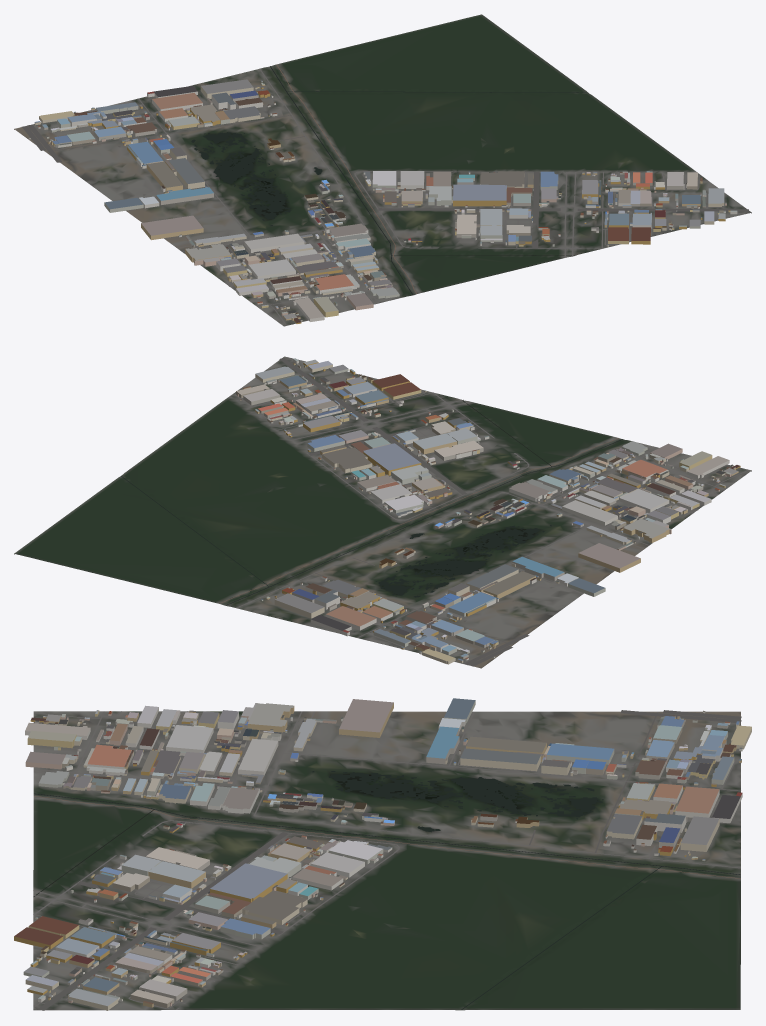
The picture shows the model from 3 angles, top to bottom: view 1: azimuth 30°, elevation 25°; view 2: azimuth 150°, elevation 25°; view 3: azimuth 270°, elevation 25°; orthographic projection. The views are drawn at different scales.
Visible parts, largest first — view 1: ground, buildings, roads, water; view 2: ground, buildings, roads, water; view 3: ground, buildings, roads, water.
Boxes of the visible parts, x1,y1,x2,y2 form: ground: [14, 14, 751, 326]; buildings: [28, 79, 737, 323]; roads: [22, 64, 748, 325]; water: [191, 66, 588, 294]; ground: [14, 356, 751, 668]; buildings: [236, 358, 740, 664]; roads: [219, 357, 748, 666]; water: [121, 399, 622, 605]; ground: [33, 711, 740, 1010]; buildings: [14, 698, 751, 1010]; roads: [33, 710, 741, 1010]; water: [33, 771, 740, 1009].
Bounding box in the file's own units: 1444 × 22 × 1461.
